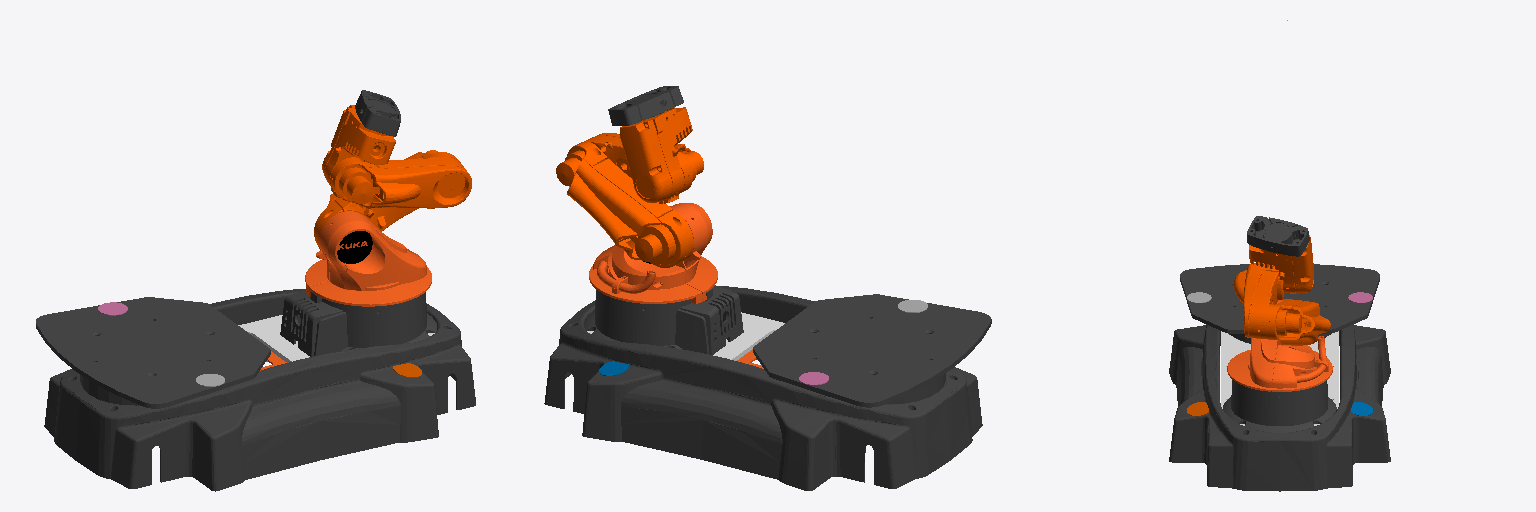
--- Facts derived from the render (not from the file) ---
The picture shows the robot from 3 angles, left to right: view 1: azimuth 30°, elevation 25°; view 2: azimuth 150°, elevation 25°; view 3: azimuth 270°, elevation 25°; orthographic projection.
Model youbot with 26 links and 25 joints (5 revolute, 8 continuous, 2 prismatic, 10 fixed), rooted at base_footprint, posed all joints at 0.
Links seen in each view (by area): view 1: base_link, plate_link, arm_link_1, arm_link_0, arm_link_3, arm_link_4, arm_link_2, arm_link_5; view 2: base_link, plate_link, arm_link_2, arm_link_0, arm_link_1, arm_link_4, arm_link_5, arm_link_3; view 3: base_link, plate_link, arm_link_1, arm_link_0, arm_link_3, arm_link_2, arm_link_5, arm_link_4.
Link boxes in pixels (x1,y1,x2,y2): base_link: [44, 289, 475, 491]; plate_link: [36, 297, 270, 408]; arm_link_1: [305, 211, 431, 306]; arm_link_0: [280, 289, 436, 356]; arm_link_3: [330, 156, 471, 208]; arm_link_4: [322, 105, 395, 197]; arm_link_2: [314, 150, 460, 248]; arm_link_5: [355, 90, 400, 136]; base_link: [544, 286, 982, 490]; plate_link: [753, 294, 991, 407]; arm_link_2: [556, 141, 693, 267]; arm_link_0: [584, 285, 743, 354]; arm_link_1: [589, 203, 717, 303]; arm_link_4: [619, 107, 692, 203]; arm_link_5: [608, 86, 683, 125]; arm_link_3: [586, 133, 703, 192]; base_link: [1169, 324, 1390, 491]; plate_link: [1180, 264, 1379, 343]; arm_link_1: [1227, 299, 1332, 391]; arm_link_0: [1223, 380, 1336, 432]; arm_link_3: [1234, 263, 1283, 338]; arm_link_2: [1265, 299, 1330, 345]; arm_link_5: [1247, 216, 1309, 256]; arm_link_4: [1249, 235, 1313, 293].
Size in the robot's own frame: 0.5897 by 0.3571 by 0.619 metres.
9 mesh visuals loaded from 15 distinct referenced files (9 Collada DAE); not drawn: 7 (reference not matched to a file when rendering).

robot.urdf — youbot:
<?xml version="1.0" ?>
<!-- =================================================================================== -->
<!-- |    This document was autogenerated by xacro from robots/rail_youbot.urdf.xacro  | -->
<!-- |    EDITING THIS FILE BY HAND IS NOT RECOMMENDED                                 | -->
<!-- =================================================================================== -->
<!--
   Author: Russell Toris, Worcester Polytechnic Institute
  Version: July 18, 2012
-->
<robot name="youbot" xmlns:controller="http://playerstage.sourceforge.net/gazebo/xmlschema/#controller" xmlns:interface="http://playerstage.sourceforge.net/gazebo/xmlschema/#interface" xmlns:sensor="http://playerstage.sourceforge.net/gazebo/xmlschema/#sensor" xmlns:xacro="http://ros.org/wiki/xacro">
  <!-- misc common stuff -->
  <!-- youbot base -->
  <!-- youbot plate -->
  <!-- youbot arm -->
  <!-- youbot gripper -->
  <!-- generic simulator_gazebo plugins for starting mechanism control, ros time, ros battery -->
  <gazebo>
    <controller:gazebo_ros_controller_manager name="gazebo_ros_controller_manager" plugin="libgazebo_ros_controller_manager.so">
      <alwaysOn>true</alwaysOn>
      <updateRate>1000.0</updateRate>
      <interface:audio name="gazebo_ros_controller_manager_dummy_iface"/>
    </controller:gazebo_ros_controller_manager>
    <controller:gazebo_ros_power_monitor name="gazebo_ros_power_monitor_controller" plugin="libgazebo_ros_power_monitor.so">
      <alwaysOn>true</alwaysOn>
      <updateRate>1.0</updateRate>
      <timeout>5</timeout>
      <interface:audio name="power_monitor_dummy_interface"/>
      <powerStateTopic>power_state</powerStateTopic>
      <powerStateRate>10.0</powerStateRate>
      <fullChargeCapacity>87.78</fullChargeCapacity>
      <dischargeRate>-474</dischargeRate>
      <chargeRate>525</chargeRate>
      <dischargeVoltage>15.52</dischargeVoltage>
      <chargeVoltage>16.41</chargeVoltage>
    </controller:gazebo_ros_power_monitor>
  </gazebo>
  <!-- materials for visualization -->
  <material name="Orange">
    <color rgba="1.0 0.4 0.0 1.0"/>
  </material>
  <material name="Grey">
    <color rgba="0.7 0.7 0.7 1.0"/>
  </material>
  <material name="DarkGrey">
    <color rgba="0.3 0.3 0.3 1.0"/>
  </material>
  <material name="White">
    <color rgba="1.0 1.0 1.0 1.0"/>
  </material>
  <material name="Black">
    <color rgba="0.0 0.0 0.0 1.0"/>
  </material>
  <material name="Red">
    <color rgba="1.0 0.0 0.0 1.0"/>
  </material>
  <material name="Green">
    <color rgba="0.0 1.0 0.0 1.0"/>
  </material>
  <!-- color fixes -->
  <!-- kinect -->
  <!-- <include filename="$(find pr2_description)/urdf/sensors/head_sensor_package.urdf.xacro" /> -->
  <!-- build the robot -->
  <link name="base_footprint">
    <inertial>
      <mass value="0.1"/>
      <origin rpy="0 0 0" xyz="0 0 -0.05"/>
      <inertia ixx="1.0" ixy="0.0" ixz="0.0" iyy="1.0" iyz="0.0" izz="1.0"/>
    </inertial>
    <visual>
      <origin rpy="0 0 0" xyz="0 0 0"/>
      <geometry>
        <box size="0.001 0.001 0.001"/>
      </geometry>
    </visual>
    <collision>
      <origin rpy="0 0 0" xyz="0 0 -0.05"/>
      <geometry>
        <box size="0.001 0.001 0.001"/>
      </geometry>
    </collision>
  </link>
  <joint name="base_footprint_joint" type="fixed">
    <origin rpy="0 0 0" xyz="0 0 0"/>
    <child link="base_link"/>
    <parent link="base_footprint"/>
  </joint>
  <link name="base_link">
    <inertial>
      <mass value="22.0"/>
      <origin xyz="0 0 0"/>
      <inertia ixx="5.652232699207" ixy="-0.009719934438" ixz="1.293988226423" iyy="5.669473158652" iyz="-0.007379583694" izz="3.683196351726"/>
    </inertial>
    <visual>
      <origin rpy="0 0 0" xyz="0 0 0"/>
      <geometry>
        <mesh filename="package://youbot_description/meshes/youbot_base/base.dae"/>
      </geometry>
    </visual>
    <collision>
      <origin rpy="0 0 0" xyz="0 0 0"/>
      <geometry>
        <mesh filename="package://youbot_description/meshes/youbot_base/base_convex.dae"/>
      </geometry>
    </collision>
  </link>
  <joint name="caster_joint_fl" type="continuous">
    <origin rpy="0 0 0" xyz="0.228 0.158 -0.034"/>
    <axis xyz="0 0 1"/>
    <limit effort="30" velocity="10"/>
    <dynamics damping="1.0" friction="1.0"/>
    <safety_controller k_velocity="10.0"/>
    <parent link="base_link"/>
    <child link="caster_link_fl"/>
  </joint>
  <link name="caster_link_fl">
    <inertial>
      <mass value="0.1"/>
      <origin xyz="0 0 0"/>
      <inertia ixx="0.012411765597" ixy="-0.000711733678" ixz="0.00050272983" iyy="0.015218160428" iyz="-0.000004273467" izz="0.011763977943"/>
    </inertial>
  </link>
  <joint name="wheel_joint_fl" type="continuous">
    <axis xyz="0 1 0"/>
    <limit effort="30" velocity="10"/>
    <origin rpy="0 0 0" xyz="0.0 0.0 0.0"/>
    <parent link="caster_link_fl"/>
    <dynamics damping="1.0" friction="1.0"/>
    <safety_controller k_velocity="10.0"/>
    <child link="wheel_link_fl"/>
  </joint>
  <link name="wheel_link_fl">
    <inertial>
      <mass value="0.4"/>
      <origin xyz="0 0 0"/>
      <inertia ixx="0.012411765597" ixy="-0.000711733678" ixz="0.00050272983" iyy="0.015218160428" iyz="-0.000004273467" izz="0.011763977943"/>
    </inertial>
    <visual>
      <origin rpy="0 0 0" xyz="0 0 0"/>
      <geometry>
        <mesh filename="package://rail_youbot_description/meshes/youbot_base/front-left_wheel.dae"/>
      </geometry>
    </visual>
    <collision>
      <origin rpy="1.57079632679 0 0" xyz="0 0 0"/>
      <geometry>
        <cylinder length="0.005" radius="0.05"/>
      </geometry>
    </collision>
  </link>
  <joint name="caster_joint_fr" type="continuous">
    <origin rpy="0 0 0" xyz="0.228 -0.158 -0.034"/>
    <axis xyz="0 0 1"/>
    <limit effort="30" velocity="10"/>
    <dynamics damping="1.0" friction="1.0"/>
    <safety_controller k_velocity="10.0"/>
    <parent link="base_link"/>
    <child link="caster_link_fr"/>
  </joint>
  <link name="caster_link_fr">
    <inertial>
      <mass value="0.1"/>
      <origin xyz="0 0 0"/>
      <inertia ixx="0.012411765597" ixy="-0.000711733678" ixz="0.00050272983" iyy="0.015218160428" iyz="-0.000004273467" izz="0.011763977943"/>
    </inertial>
  </link>
  <joint name="wheel_joint_fr" type="continuous">
    <axis xyz="0 1 0"/>
    <limit effort="30" velocity="10"/>
    <dynamics damping="1.0" friction="1.0"/>
    <safety_controller k_velocity="10.0"/>
    <origin rpy="0 0 0" xyz="0.0 0.0 0.0"/>
    <parent link="caster_link_fr"/>
    <child link="wheel_link_fr"/>
  </joint>
  <link name="wheel_link_fr">
    <inertial>
      <mass value="0.4"/>
      <origin xyz="0 0 0"/>
      <inertia ixx="0.012411765597" ixy="-0.000711733678" ixz="0.00050272983" iyy="0.015218160428" iyz="-0.000004273467" izz="0.011763977943"/>
    </inertial>
    <visual>
      <origin rpy="0 0 0" xyz="0 0 0"/>
      <geometry>
        <mesh filename="package://rail_youbot_description/meshes/youbot_base/front-right_wheel.dae"/>
      </geometry>
    </visual>
    <collision>
      <origin rpy="1.57079632679 0 0" xyz="0 0 0"/>
      <geometry>
        <cylinder length="0.005" radius="0.05"/>
      </geometry>
    </collision>
  </link>
  <joint name="caster_joint_bl" type="continuous">
    <origin rpy="0 0 0" xyz="-0.228 0.158 -0.034"/>
    <axis xyz="0 0 1"/>
    <limit effort="30" velocity="10"/>
    <dynamics damping="1.0" friction="1.0"/>
    <safety_controller k_velocity="10.0"/>
    <parent link="base_link"/>
    <child link="caster_link_bl"/>
  </joint>
  <link name="caster_link_bl">
    <inertial>
      <mass value="0.1"/>
      <origin xyz="0 0 0"/>
      <inertia ixx="0.012411765597" ixy="-0.000711733678" ixz="0.00050272983" iyy="0.015218160428" iyz="-0.000004273467" izz="0.011763977943"/>
    </inertial>
  </link>
  <joint name="wheel_joint_bl" type="continuous">
    <axis xyz="0 1 0"/>
    <limit effort="10" velocity="10"/>
    <limit effort="30" velocity="10"/>
    <dynamics damping="1.0" friction="1.0"/>
    <safety_controller k_velocity="10.0"/>
    <origin rpy="0 0 0" xyz="0.0 0.0 0.0"/>
    <parent link="caster_link_bl"/>
    <child link="wheel_link_bl"/>
  </joint>
  <link name="wheel_link_bl">
    <inertial>
      <mass value="0.4"/>
      <origin xyz="0 0 0"/>
      <inertia ixx="0.012411765597" ixy="-0.000711733678" ixz="0.00050272983" iyy="0.015218160428" iyz="-0.000004273467" izz="0.011763977943"/>
    </inertial>
    <visual>
      <origin rpy="0 0 0" xyz="0 0 0"/>
      <geometry>
        <mesh filename="package://rail_youbot_description/meshes/youbot_base/back-left_wheel.dae"/>
      </geometry>
    </visual>
    <collision>
      <origin rpy="1.57079632679 0 0" xyz="0 0 0"/>
      <geometry>
        <cylinder length="0.005" radius="0.05"/>
      </geometry>
    </collision>
  </link>
  <joint name="caster_joint_br" type="continuous">
    <origin rpy="0 0 0" xyz="-0.228 -0.158 -0.034"/>
    <axis xyz="0 0 1"/>
    <limit effort="30" velocity="10"/>
    <dynamics damping="1.0" friction="1.0"/>
    <safety_controller k_velocity="10.0"/>
    <parent link="base_link"/>
    <child link="caster_link_br"/>
  </joint>
  <link name="caster_link_br">
    <inertial>
      <mass value="0.1"/>
      <origin xyz="0 0 0"/>
      <inertia ixx="0.012411765597" ixy="-0.000711733678" ixz="0.00050272983" iyy="0.015218160428" iyz="-0.000004273467" izz="0.011763977943"/>
    </inertial>
  </link>
  <joint name="wheel_joint_br" type="continuous">
    <axis xyz="0 1 0"/>
    <limit effort="30" velocity="10"/>
    <dynamics damping="1.0" friction="1.0"/>
    <safety_controller k_velocity="10.0"/>
    <origin rpy="0 0 0" xyz="0.0 0.0 0.0"/>
    <parent link="caster_link_br"/>
    <child link="wheel_link_br"/>
  </joint>
  <link name="wheel_link_br">
    <inertial>
      <mass value="0.4"/>
      <origin xyz="0 0 0"/>
      <inertia ixx="0.012411765597" ixy="-0.000711733678" ixz="0.00050272983" iyy="0.015218160428" iyz="-0.000004273467" izz="0.011763977943"/>
    </inertial>
    <visual>
      <origin rpy="0 0 0" xyz="0 0 0"/>
      <geometry>
        <mesh filename="package://rail_youbot_description/meshes/youbot_base/back-right_wheel.dae"/>
      </geometry>
    </visual>
    <collision>
      <origin rpy="1.57079632679 0 0" xyz="0 0 0"/>
      <geometry>
        <cylinder length="0.005" radius="0.05"/>
      </geometry>
    </collision>
  </link>
  <transmission name="wheel_trans_fl" type="pr2_mechanism_model/SimpleTransmission">
    <actuator name="wheel_motor_fl"/>
    <joint name="wheel_joint_fl"/>
    <mechanicalReduction>79.2380952381</mechanicalReduction>
  </transmission>
  <transmission name="caster_trans_fl" type="pr2_mechanism_model/SimpleTransmission">
    <actuator name="caster_motor_fl"/>
    <joint name="caster_joint_fl"/>
    <mechanicalReduction>79.2380952381</mechanicalReduction>
  </transmission>
  <transmission name="wheel_trans_fr" type="pr2_mechanism_model/SimpleTransmission">
    <actuator name="wheel_motor_fr"/>
    <joint name="wheel_joint_fr"/>
    <mechanicalReduction>79.2380952381</mechanicalReduction>
  </transmission>
  <transmission name="caster_trans_fr" type="pr2_mechanism_model/SimpleTransmission">
    <actuator name="caster_motor_fr"/>
    <joint name="caster_joint_fr"/>
    <mechanicalReduction>79.2380952381</mechanicalReduction>
  </transmission>
  <transmission name="wheel_trans_bl" type="pr2_mechanism_model/SimpleTransmission">
    <actuator name="wheel_motor_bl"/>
    <joint name="wheel_joint_bl"/>
    <mechanicalReduction>79.2380952381</mechanicalReduction>
  </transmission>
  <transmission name="caster_trans_bl" type="pr2_mechanism_model/SimpleTransmission">
    <actuator name="caster_motor_bl"/>
    <joint name="caster_joint_bl"/>
    <mechanicalReduction>79.2380952381</mechanicalReduction>
  </transmission>
  <transmission name="wheel_trans_br" type="pr2_mechanism_model/SimpleTransmission">
    <actuator name="wheel_motor_br"/>
    <joint name="wheel_joint_br"/>
    <mechanicalReduction>79.2380952381</mechanicalReduction>
  </transmission>
  <transmission name="caster_trans_br" type="pr2_mechanism_model/SimpleTransmission">
    <actuator name="caster_motor_br"/>
    <joint name="caster_joint_br"/>
    <mechanicalReduction>79.2380952381</mechanicalReduction>
  </transmission>
  <gazebo reference="base_link">
    <material value="rail_youbot/black"/>
  </gazebo>
  <gazebo>
    <controller:gazebo_ros_p3d name="p3d_base_controller" plugin="libgazebo_ros_p3d.so">
      <alwaysOn>true</alwaysOn>
      <updateRate>100.0</updateRate>
      <bodyName>base_link</bodyName>
      <topicName>base_pose_ground_truth</topicName>
      <gaussianNoise>0.01</gaussianNoise>
      <frameName>map</frameName>
      <!-- initialize odometry for fake localization-->
      <xyzOffsets>25.7 25.7 0</xyzOffsets>
      <rpyOffsets>0 0 0</rpyOffsets>
      <interface:position name="p3d_base_position"/>
    </controller:gazebo_ros_p3d>
    <canonicalBody>base_footprint</canonicalBody>
  </gazebo>
  <joint name="plate_joint" type="fixed">
    <origin rpy="0 0 0" xyz="-0.159 0 0.046"/>
    <parent link="base_link"/>
    <child link="plate_link"/>
  </joint>
  <link name="plate_link">
    <inertial>
      <origin rpy="0 0 0" xyz="0 0 0"/>
      <mass value="1"/>
      <inertia ixx="0.01" ixy="0" ixz="0" iyy="0.01" iyz="0" izz="0.01"/>
    </inertial>
    <visual>
      <origin rpy="0 0 0" xyz="0 0 0"/>
      <geometry>
        <mesh filename="package://youbot_description/meshes/youbot_plate/plate.dae"/>
      </geometry>
      <material name="DarkGrey"/>
    </visual>
    <collision>
      <origin rpy="0 0 0" xyz="0 0 0"/>
      <geometry>
        <mesh filename="package://youbot_description/meshes/youbot_plate/plate_convex.dae"/>
      </geometry>
    </collision>
  </link>
  <gazebo reference="plate_link">
    <material value="rail_youbot/plate"/>
  </gazebo>
  <joint name="arm_joint_0" type="fixed">
    <origin rpy="0 0 0" xyz="0.143 0 0.046"/>
    <parent link="base_link"/>
    <child link="arm_link_0"/>
  </joint>
  <link name="arm_link_0">
    <inertial>
      <!--<origin xyz="0.023 0 0.006" rpy="0 0 0"/>-->
      <origin rpy="0 0 0" xyz="0 0 0"/>
      <mass value="0.845"/>
      <inertia ixx="0.01" ixy="0" ixz="0" iyy="0.01" iyz="0" izz="0.01"/>
    </inertial>
    <visual>
      <origin rpy="0 0 0" xyz="0 0 0"/>
      <geometry>
        <mesh filename="package://youbot_description/meshes/youbot_arm/arm0.dae"/>
      </geometry>
      <material name="DarkGrey"/>
    </visual>
    <collision>
      <!--<origin xyz="0.023 0 0.006" rpy="0 0 0"/>-->
      <origin rpy="0 0 0" xyz="0 0 0"/>
      <geometry>
        <mesh filename="package://youbot_description/meshes/youbot_arm/arm0_convex.dae"/>
        <!--<cylinder length="0.078" radius="0.093"/>-->
      </geometry>
    </collision>
  </link>
  <joint name="arm_joint_1" type="revolute">
    <origin rpy="0 0 2.96705972839" xyz="0.024 0 0.096"/>
    <parent link="arm_link_0"/>
    <child link="arm_link_1"/>
    <axis xyz="0 0 -1"/>
    <!--<calibration rising="${arm_1_ref}" falling="${arm_1_ref}"/>-->
    <dynamics damping="1" friction="1"/>
    <!-- damping - N*s/m, N*s*m/rad -->
    <!-- friction - N, N*m -->
    <limit effort="9.5" lower="0" upper="5.89921287174" velocity="1.57079632679"/>
    <!--effort - N, N*m-->
    <!--velocity - m/s, rad/s-->
    <safety_controller k_position="20" k_velocity="1.51197195937" soft_lower_limit="0.001" soft_upper_limit="5.89821287174"/>
    <!--k_position N/m, N/rad-->
    <!--k_velocity N*s/m, N*s*m/rad-->
    <!--for details: http://www.ros.org/wiki/pr2_controller_manager/safety_limits-->
  </joint>
  <link name="arm_link_1">
    <inertial>
      <mass value="2.412"/>
      <origin rpy="0 0 0" xyz="0.01489 0.00213 0.00213"/>
      <inertia ixx="0.003863" ixy="-0.000979" ixz="0.000000" iyy="0.006196" iyz="0.000000" izz="0.006369"/>
    </inertial>
    <visual>
      <origin rpy="0 0 0" xyz="0 0 0"/>
      <geometry>
        <mesh filename="package://youbot_description/meshes/youbot_arm/arm1.dae"/>
      </geometry>
      <!--<material name="Orange" />-->
    </visual>
    <collision>
      <!--<origin xyz="0 0 -0.003" rpy="0 0 0" />-->
      <origin rpy="0 0 0" xyz="0 0 0"/>
      <geometry>
        <mesh filename="package://youbot_description/meshes/youbot_arm/arm1_convex.dae"/>
        <!--<cylinder length="0.102" radius="0.080"/>-->
      </geometry>
    </collision>
  </link>
  <joint name="arm_joint_2" type="revolute">
    <origin rpy="0 -1.1344640138 0" xyz="0.033 0 0.019"/>
    <parent link="arm_link_1"/>
    <child link="arm_link_2"/>
    <axis xyz="0 1 0"/>
    <!--<calibration rising="${arm_2_ref}" falling="${arm_2_ref}"/>-->
    <dynamics damping="1" friction="1"/>
    <limit effort="9.5" lower="0" upper="2.70526034059" velocity="1.57079632679"/>
    <safety_controller k_position="20" k_velocity="6.04788783749" soft_lower_limit="0.001" soft_upper_limit="2.70426034059"/>
  </joint>
  <link name="arm_link_2">
    <inertial>
      <mass value="1.155"/>
      <origin rpy="0 0 0" xyz="0.10453 0.0017 -0.00297"/>
      <inertia ixx="0.000823" ixy="0.000000" ixz="-0.000000" iyy="0.004447" iyz="0.000000" izz="0.004439"/>
    </inertial>
    <visual>
      <origin rpy="0 0 0" xyz="0 -0.032 0.078"/>
      <geometry>
        <mesh filename="package://youbot_description/meshes/youbot_arm/arm2.dae"/>
      </geometry>
      <material name="Orange"/>
    </visual>
    <collision>
      <!--<origin xyz="0.001 -0.041 0.074" rpy="0 0 0" />-->
      <origin rpy="0 0 0" xyz="0 -0.032 0.078"/>
      <geometry>
        <mesh filename="package://youbot_description/meshes/youbot_arm/arm2_convex.dae"/>
        <!--<box size="0.074 0.082 0.222"/>-->
      </geometry>
    </collision>
  </link>
  <joint name="arm_joint_3" type="revolute">
    <origin rpy="0 2.54818070791 0" xyz="0.000 0.000 0.155"/>
    <parent link="arm_link_2"/>
    <child link="arm_link_3"/>
    <axis xyz="0 1 0"/>
    <dynamics damping="1" friction="1"/>
    <limit effort="6.0" lower="-5.18362787842" upper="0" velocity="1.57079632679"/>
    <safety_controller k_position="20" k_velocity="50" soft_lower_limit="-5.18262787842" soft_upper_limit="-0.001"/>
  </joint>
  <link name="arm_link_3">
    <inertial>
      <mass value="0.934"/>
      <origin rpy="0 0 0" xyz="0.0001 0.0967 0.02107"/>
      <inertia ixx="0.002459" ixy="0.000000" ixz="0.000000" iyy="0.002571" iyz="-0.000000" izz="0.000535"/>
    </inertial>
    <visual>
      <origin rpy="0 0 0" xyz="0.000 0.028 0.079"/>
      <geometry>
        <mesh filename="package://youbot_description/meshes/youbot_arm/arm3.dae"/>
      </geometry>
      <material name="Orange"/>
    </visual>
    <collision>
      <!--<origin xyz="0.000 0.025 0.067" rpy="0 0 0" />-->
      <origin rpy="0 0 0" xyz="0.000 0.028 0.079"/>
      <geometry>
        <mesh filename="package://youbot_description/meshes/youbot_arm/arm3_convex.dae"/>
        <!--<box size="0.064 0.054 0.192"/>-->
      </geometry>
    </collision>
  </link>
  <joint name="arm_joint_4" type="revolute">
    <origin rpy="0 -1.78896248329 0" xyz="0.000 0.000 0.135"/>
    <parent link="arm_link_3"/>
    <child link="arm_link_4"/>
    <axis xyz="0 1 0"/>
    <!--<calibration rising="${arm_4_ref}" falling="${arm_4_ref}"/>-->
    <dynamics damping="1" friction="1"/>
    <limit effort="2.0" lower="0" upper="3.57792496659" velocity="1.57079632679"/>
    <safety_controller k_position="20" k_velocity="100" soft_lower_limit="0" soft_upper_limit="3.57692496659"/>
  </joint>
  <link name="arm_link_4">
    <inertial>
      <mass value="0.877"/>
      <origin rpy="0 0 0" xyz="0.00011 0.05103 -0.02319"/>
      <inertia ixx="0.000869" ixy="0.000000" ixz="-0.000000" iyy="0.001173" iyz="-0.000231" izz="0.001091"/>
    </inertial>
    <visual>
      <origin rpy="0 0 0" xyz="0 -0.010 0.029"/>
      <geometry>
        <mesh filename="package://youbot_description/meshes/youbot_arm/arm4.dae"/>
      </geometry>
      <material name="Orange"/>
    </visual>
    <collision>
      <!--<origin xyz="0 0 0.026" rpy="0 0 0" />-->
      <origin rpy="0 0 0" xyz="0 -0.010 0.029"/>
      <geometry>
        <mesh filename="package://youbot_description/meshes/youbot_arm/arm4_convex.dae"/>
        <!--<box size="0.058 0.100 0.118"/>-->
      </geometry>
    </collision>
  </link>
  <joint name="arm_joint_5" type="revolute">
    <origin rpy="0 0 2.92342649709" xyz="-0.002 0 0.130"/>
    <parent link="arm_link_4"/>
    <child link="arm_link_5"/>
    <axis xyz="0 0 -1"/>
    <!--<calibration rising="${arm_5_ref}" falling="${arm_5_ref}"/>-->
    <dynamics damping="1" friction="1"/>
    <limit effort="1" lower="0" upper="5.84685299418" velocity="1.57079632679"/>
    <safety_controller k_position="20" k_velocity="100" soft_lower_limit="0" soft_upper_limit="5.84585299418"/>
  </joint>
  <link name="arm_link_5">
    <inertial>
      <mass value="0.251"/>
      <origin rpy="0 0 0" xyz="0.0 0.00115 -0.01683"/>
      <inertia ixx="0.000280" ixy="0.000000" ixz="0.000000" iyy="0.000339" iyz="0.000000" izz="0.000119"/>
    </inertial>
    <visual>
      <origin rpy="0 0 0" xyz="0.003 0 -0.034"/>
      <geometry>
        <mesh filename="package://youbot_description/meshes/youbot_arm/arm5.dae"/>
      </geometry>
      <material name="DarkGrey"/>
    </visual>
    <collision>
      <origin rpy="0 0 0" xyz="0.003 0 -0.034"/>
      <geometry>
        <mesh filename="package://youbot_description/meshes/youbot_arm/arm5_convex.dae"/>
        <!--<box size="0.054 0.096 0.030"/>-->
      </geometry>
    </collision>
  </link>
  <gazebo reference="arm_link_0">
    <material value="youbot/DarkGrey"/>
    <turnGravityOff>false</turnGravityOff>
  </gazebo>
  <gazebo reference="arm_link_1">
    <!--<material value="youbot/Orange" />-->
    <turnGravityOff>false</turnGravityOff>
  </gazebo>
  <gazebo reference="arm_link_2">
    <!--<material value="youbot/Orange" />-->
    <turnGravityOff>false</turnGravityOff>
  </gazebo>
  <gazebo reference="arm_link_3">
    <!--<material value="youbot/Orange" />-->
    <turnGravityOff>false</turnGravityOff>
  </gazebo>
  <gazebo reference="arm_link_4">
    <!--<material value="youbot/Orange" />-->
    <turnGravityOff>false</turnGravityOff>
  </gazebo>
  <gazebo reference="arm_link_5">
    <!--<material value="youbot/DarkGrey" />-->
    <turnGravityOff>false</turnGravityOff>
  </gazebo>
  <transmission name="arm_trans_1" type="pr2_mechanism_model/SimpleTransmission">
    <actuator name="arm_motor_1"/>
    <joint name="arm_joint_1"/>
    <mechanicalReduction>1</mechanicalReduction>
  </transmission>
  <transmission name="arm_trans_2" type="pr2_mechanism_model/SimpleTransmission">
    <actuator name="arm_motor_2"/>
    <joint name="arm_joint_2"/>
    <mechanicalReduction>1</mechanicalReduction>
  </transmission>
  <transmission name="arm_trans_3" type="pr2_mechanism_model/SimpleTransmission">
    <actuator name="arm_motor_3"/>
    <joint name="arm_joint_3"/>
    <mechanicalReduction>1</mechanicalReduction>
  </transmission>
  <transmission name="arm_trans_4" type="pr2_mechanism_model/SimpleTransmission">
    <actuator name="arm_motor_4"/>
    <joint name="arm_joint_4"/>
    <mechanicalReduction>1</mechanicalReduction>
  </transmission>
  <transmission name="arm_trans_5" type="pr2_mechanism_model/SimpleTransmission">
    <actuator name="arm_motor_5"/>
    <joint name="arm_joint_5"/>
    <mechanicalReduction>1</mechanicalReduction>
  </transmission>
  <joint name="gripper_palm_joint" type="fixed">
    <origin rpy="0 0 0" xyz="0 0 0"/>
    <parent link="arm_link_5"/>
    <child link="gripper_palm_link"/>
  </joint>
  <link name="gripper_palm_link">
    <inertial>
      <origin rpy="0 0 0" xyz="0 0 0"/>
      <mass value="0.1"/>
      <inertia ixx="0.01" ixy="0" ixz="0" iyy="0.01" iyz="0" izz="0.01"/>
    </inertial>
    <visual>
      <origin rpy="0 0 0" xyz="0 0 0"/>
      <geometry>
        <mesh filename="package://youbot_description/meshes/youbot_gripper/palm.dae"/>
      </geometry>
      <material name="Black"/>
    </visual>
    <collision>
      <origin rpy="0 0 0" xyz="0 0 0"/>
      <geometry>
        <!--<box size="0.050 0.094 0.054"/>-->
        <mesh filename="package://youbot_description/meshes/youbot_gripper/palm_convex.dae"/>
      </geometry>
    </collision>
  </link>
  <joint name="gripper_finger_joint_l" type="prismatic">
    <origin rpy="0 0 3.14159265359" xyz="0.004 0.008 0.046"/>
    <parent link="gripper_palm_link"/>
    <child link="gripper_finger_link_l"/>
    <axis xyz="0 -1 0"/>
    <dynamics damping="1.0" friction="1.0"/>
    <limit effort="1" lower="0" upper="0.0115" velocity="0.1"/>
    <safety_controller k_position="20" k_velocity="25" soft_lower_limit="0.001" soft_upper_limit="0.011"/>
  </joint>
  <link name="gripper_finger_link_l">
    <inertial>
      <origin rpy="0 0 0" xyz="0 -0.001 0"/>
      <mass value="0.01"/>
      <inertia ixx="0.01" ixy="0" ixz="0" iyy="0.01" iyz="0" izz="0.01"/>
    </inertial>
    <visual>
      <origin rpy="0 0 0" xyz="0 0 0"/>
      <geometry>
        <mesh filename="package://youbot_description/meshes/youbot_gripper/finger.dae"/>
      </geometry>
      <material name="Black"/>
    </visual>
    <collision>
      <origin rpy="0 0 0" xyz="0 0 0"/>
      <geometry>
        <!--<box size="0.014 0.020 0.046"/>-->
        <mesh filename="package://youbot_description/meshes/youbot_gripper/finger_convex.dae"/>
      </geometry>
    </collision>
  </link>
  <joint name="gripper_finger_joint_r" type="prismatic">
    <origin rpy="0 0 0" xyz="0.004 -0.008 0.046"/>
    <parent link="gripper_palm_link"/>
    <child link="gripper_finger_link_r"/>
    <axis xyz="0 -1 0"/>
    <dynamics damping="1.0" friction="1.0"/>
    <limit effort="1" lower="0" upper="0.0115" velocity="0.1"/>
    <safety_controller k_position="20" k_velocity="25" soft_lower_limit="0.001" soft_upper_limit="0.011"/>
  </joint>
  <link name="gripper_finger_link_r">
    <inertial>
      <origin rpy="0 0 0" xyz="0.000 -0.001 0"/>
      <mass value="0.01"/>
      <inertia ixx="0.01" ixy="0" ixz="0" iyy="0.01" iyz="0" izz="0.01"/>
    </inertial>
    <visual>
      <origin rpy="0 0 0" xyz="0 0 0"/>
      <geometry>
        <mesh filename="package://youbot_description/meshes/youbot_gripper/finger.dae"/>
      </geometry>
      <material name="Black"/>
    </visual>
    <collision>
      <origin rpy="0 0 0" xyz="0.000 0 0"/>
      <geometry>
        <!--<box size="0.014 0.020 0.046"/>-->
        <mesh filename="package://youbot_description/meshes/youbot_gripper/finger_convex.dae"/>
      </geometry>
    </collision>
  </link>
  <gazebo reference="gripper_palm_link">
    <material>Gazebo/Black</material>
    <turnGravityOff>false</turnGravityOff>
    <selfCollide>true</selfCollide>
  </gazebo>
  <gazebo reference="gripper_finger_l_link">
    <material>Gazebo/Black</material>
    <turnGravityOff>false</turnGravityOff>
    <selfCollide>true</selfCollide>
  </gazebo>
  <gazebo reference="gripper_finger_r_link">
    <material>Gazebo/Black</material>
    <turnGravityOff>false</turnGravityOff>
    <selfCollide>true</selfCollide>
  </gazebo>
  <transmission name="gripper_finger_l_trans" type="pr2_mechanism_model/SimpleTransmission">
    <actuator name="gripper_finger_l_motor"/>
    <joint name="gripper_finger_joint_l"/>
    <mechanicalReduction>1</mechanicalReduction>
  </transmission>
  <transmission name="gripper_finger_r_trans" type="pr2_mechanism_model/SimpleTransmission">
    <actuator name="gripper_finger_r_motor"/>
    <joint name="gripper_finger_joint_r"/>
    <mechanicalReduction>1</mechanicalReduction>
  </transmission>
  <gazebo reference="gripper_palm_link">
    <material value="Gazebo/FlatBlack"/>
    <turnGravityOff>false</turnGravityOff>
    <selfCollide>true</selfCollide>
  </gazebo>
  <gazebo reference="gripper_finger_link_l">
    <material value="Gazebo/FlatBlack"/>
    <turnGravityOff>false</turnGravityOff>
    <selfCollide>true</selfCollide>
  </gazebo>
  <gazebo reference="gripper_finger_link_r">
    <material value="Gazebo/FlatBlack"/>
    <turnGravityOff>false</turnGravityOff>
    <selfCollide>true</selfCollide>
  </gazebo>
  <!-- markers -->
  <joint name="fl_base_marker" type="fixed">
    <origin rpy="-0.15 0.15 0" xyz="0.152 0.13 0.015"/>
    <parent link="base_link"/>
    <child link="fl_base_marker_sticker_link"/>
  </joint>
  <link name="fl_base_marker_sticker_link">
    <inertial>
      <mass value="0.01"/>
      <origin xyz="0 0 0"/>
      <inertia ixx="0.001" ixy="0.0" ixz="0.0" iyy="0.001" iyz="0.0" izz="0.001"/>
    </inertial>
    <visual>
      <origin rpy="0 0 0" xyz="0 0 0"/>
      <geometry>
        <cylinder length="0.001" radius="0.02"/>
      </geometry>
    </visual>
    <collision>
      <origin rpy="0 0 0" xyz="0 0 0"/>
      <geometry>
        <cylinder length="0.001" radius="0.02"/>
      </geometry>
    </collision>
  </link>
  <joint name="fr_base_marker" type="fixed">
    <origin rpy="0.15 0.15 0" xyz="0.152 -0.13 0.015"/>
    <parent link="base_link"/>
    <child link="fr_base_marker_sticker_link"/>
  </joint>
  <link name="fr_base_marker_sticker_link">
    <inertial>
      <mass value="0.01"/>
      <origin xyz="0 0 0"/>
      <inertia ixx="0.001" ixy="0.0" ixz="0.0" iyy="0.001" iyz="0.0" izz="0.001"/>
    </inertial>
    <visual>
      <origin rpy="0 0 0" xyz="0 0 0"/>
      <geometry>
        <cylinder length="0.001" radius="0.02"/>
      </geometry>
    </visual>
    <collision>
      <origin rpy="0 0 0" xyz="0 0 0"/>
      <geometry>
        <cylinder length="0.001" radius="0.02"/>
      </geometry>
    </collision>
  </link>
  <joint name="bl_base_marker" type="fixed">
    <origin rpy="0 0 0" xyz="0.007 0.13 0.025"/>
    <parent link="plate_link"/>
    <child link="bl_base_marker_sticker_link"/>
  </joint>
  <link name="bl_base_marker_sticker_link">
    <inertial>
      <mass value="0.01"/>
      <origin xyz="0 0 0"/>
      <inertia ixx="0.001" ixy="0.0" ixz="0.0" iyy="0.001" iyz="0.0" izz="0.001"/>
    </inertial>
    <visual>
      <origin rpy="0 0 0" xyz="0 0 0"/>
      <geometry>
        <cylinder length="0.001" radius="0.02"/>
      </geometry>
    </visual>
    <collision>
      <origin rpy="0 0 0" xyz="0 0 0"/>
      <geometry>
        <cylinder length="0.001" radius="0.02"/>
      </geometry>
    </collision>
  </link>
  <joint name="br_base_marker" type="fixed">
    <origin rpy="0 0 0" xyz="0.007 -0.13 0.025"/>
    <parent link="plate_link"/>
    <child link="br_base_marker_sticker_link"/>
  </joint>
  <link name="br_base_marker_sticker_link">
    <inertial>
      <mass value="0.01"/>
      <origin xyz="0 0 0"/>
      <inertia ixx="0.001" ixy="0.0" ixz="0.0" iyy="0.001" iyz="0.0" izz="0.001"/>
    </inertial>
    <visual>
      <origin rpy="0 0 0" xyz="0 0 0"/>
      <geometry>
        <cylinder length="0.001" radius="0.02"/>
      </geometry>
    </visual>
    <collision>
      <origin rpy="0 0 0" xyz="0 0 0"/>
      <geometry>
        <cylinder length="0.001" radius="0.02"/>
      </geometry>
    </collision>
  </link>
  <gazebo reference="fl_base_marker_sticker_link">
    <material value="rail_youbot/green"/>
  </gazebo>
  <gazebo reference="fr_base_marker_sticker_link">
    <material value="rail_youbot/red"/>
  </gazebo>
  <gazebo reference="bl_base_marker_sticker_link">
    <material value="rail_youbot/blue"/>
  </gazebo>
  <gazebo reference="br_base_marker_sticker_link">
    <material value="rail_youbot/purple"/>
  </gazebo>
  <!-- attach the kinect to the robot -->
  <joint name="youbot_base_kinect_frame_joint" type="fixed">
    <origin rpy="0 0.33 0" xyz="-0.18 0 0.55"/>
    <parent link="base_link"/>
    <child link="youbot_base_kinect_frame"/>
  </joint>
  <link name="youbot_base_kinect_frame">
    <inertial>
      <mass value="0.1"/>
      <origin rpy="0 0 0" xyz="0 0 0"/>
      <inertia ixx="0.01" ixy="0.0" ixz="0.0" iyy="0.01" iyz="0.0" izz="0.01"/>
    </inertial>
    <visual>
      <origin rpy="0 0 0" xyz="0.0 0.012 0"/>
      <geometry>
        <mesh filename="package://pr2_description/meshes/sensors/kinect_v0/kinect.dae" scale="0.001 0.001 0.001"/>
      </geometry>
    </visual>
    <collision>
      <origin rpy="0 0 0" xyz="0.0 0.012 0"/>
      <geometry>
        <mesh filename="package://pr2_description/meshes/sensors/kinect_v0/kinect.dae" scale="0.001 0.001 0.001"/>
      </geometry>
    </collision>
  </link>
  <joint name="youbot_base_kinect_optical_joint" type="fixed">
    <origin rpy="-1.57079632679 0.0 -1.57079632679" xyz="0.0            0.0         0.0"/>
    <parent link="youbot_base_kinect_frame"/>
    <child link="youbot_base_kinect_optical_frame"/>
  </joint>
  <link name="youbot_base_kinect_optical_frame"/>
  <gazebo reference="youbot_base_kinect_frame">
    <sensor name="youbot_base_kinect_frame_sensor" type="depth">
      <always_on>true</always_on>
      <update_rate>20.0</update_rate>
      <camera>
        <horizontal_fov>0.994837673637</horizontal_fov>
        <image>
          <format>R8G8B8</format>
          <width>640</width>
          <height>480</height>
        </image>
        <clip>
          <near>0.01</near>
          <far>5</far>
        </clip>
      </camera>
      <plugin filename="libgazebo_ros_openni_kinect.so" name="youbot_base_kinect_frame_controller">
        <alwaysOn>true</alwaysOn>
        <updateRate>20.0</updateRate>
        <cameraName>youbot_base_kinect</cameraName>
        <imageTopicName>youbot_base_kinect/ir/image_raw</imageTopicName>
        <cameraInfoTopicName>youbot_base_kinect/ir/camera_info</cameraInfoTopicName>
        <depthImageTopicName>youbot_base_kinect/depth/image_raw</depthImageTopicName>
        <depthImageInfoTopicName>youbot_base_kinect/depth/camera_info</depthImageInfoTopicName>
        <pointCloudTopicName>youbot_base_kinect/depth/points</pointCloudTopicName>
        <frameName>youbot_base_kinect_optical_frame</frameName>
        <pointCloudCutoff>0.5</pointCloudCutoff>
        <distortionK1>0.00000001</distortionK1>
        <distortionK2>0.00000001</distortionK2>
        <distortionK3>0.00000001</distortionK3>
        <distortionT1>0.00000001</distortionT1>
        <distortionT2>0.00000001</distortionT2>
      </plugin>
    </sensor>
    <sensor name="youbot_base_kinect_frame_sensor" type="depth">
      <always_on>true</always_on>
      <update_rate>20.0</update_rate>
      <camera>
        <horizontal_fov>0.994837673637</horizontal_fov>
        <image>
          <format>R8G8B8</format>
          <width>640</width>
          <height>480</height>
        </image>
        <clip>
          <near>0.01</near>
          <far>5</far>
        </clip>
      </camera>
      <plugin filename="libgazebo_ros_openni_kinect.so" name="youbot_base_kinect_frame_controller">
        <alwaysOn>true</alwaysOn>
        <updateRate>20.0</updateRate>
        <cameraName>youbot_base_kinect</cameraName>
        <imageTopicName>youbot_base_kinect/rgb/image_raw</imageTopicName>
        <pointCloudTopicName>youbot_base_kinect/rgb/points</pointCloudTopicName>
        <cameraInfoTopicName>youbot_base_kinect/rgb/camera_info</cameraInfoTopicName>
        <frameName>youbot_base_kinect_optical_frame</frameName>
        <pointCloudCutoff>0.5</pointCloudCutoff>
        <distortionK1>0.00000001</distortionK1>
        <distortionK2>0.00000001</distortionK2>
        <distortionK3>0.00000001</distortionK3>
        <distortionT1>0.00000001</distortionT1>
        <distortionT2>0.00000001</distortionT2>
      </plugin>
    </sensor>
  </gazebo>
</robot>
